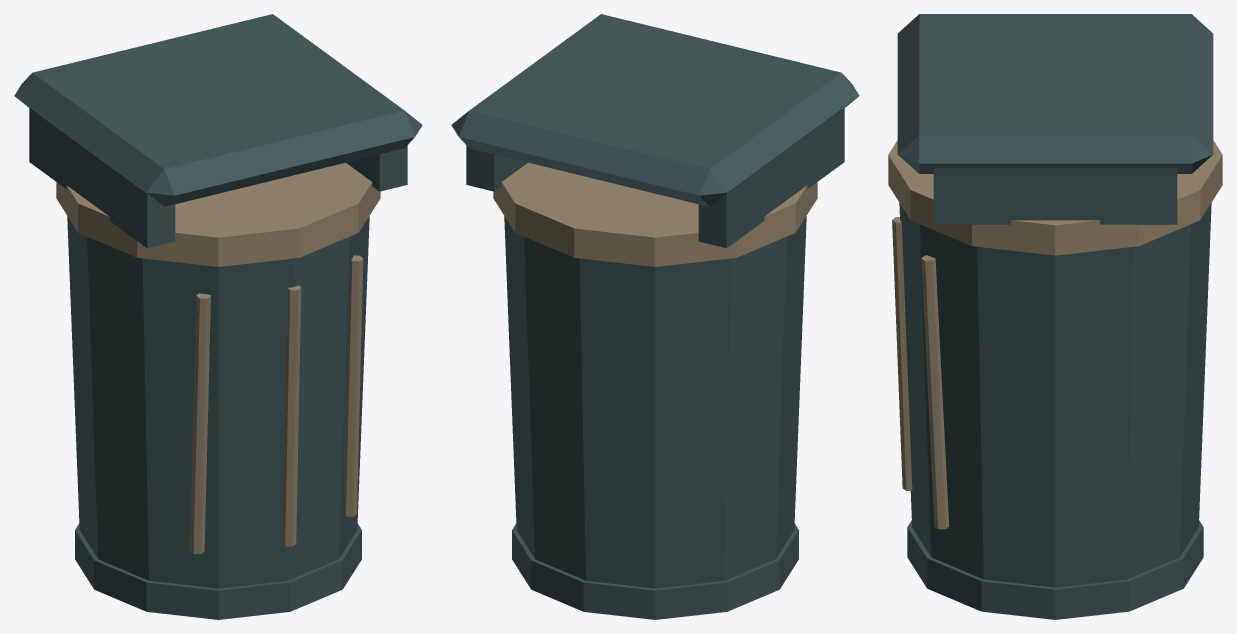
File: bin.glb
3 renders of one model, left to right at view 1: azimuth 30°, elevation 25°; view 2: azimuth 150°, elevation 25°; view 3: azimuth 270°, elevation 25°, orthographic. The views are drawn at different scales.
Visible parts, largest first — view 1: PROP_Bin; view 2: PROP_Bin; view 3: PROP_Bin.
Boxes of the visible parts, <box> form: PROP_Bin: <box>14,14,422,619</box>; PROP_Bin: <box>451,14,859,619</box>; PROP_Bin: <box>888,14,1222,619</box>.
Bounding box in the file's own units: 0.7 × 1.12 × 0.7.
